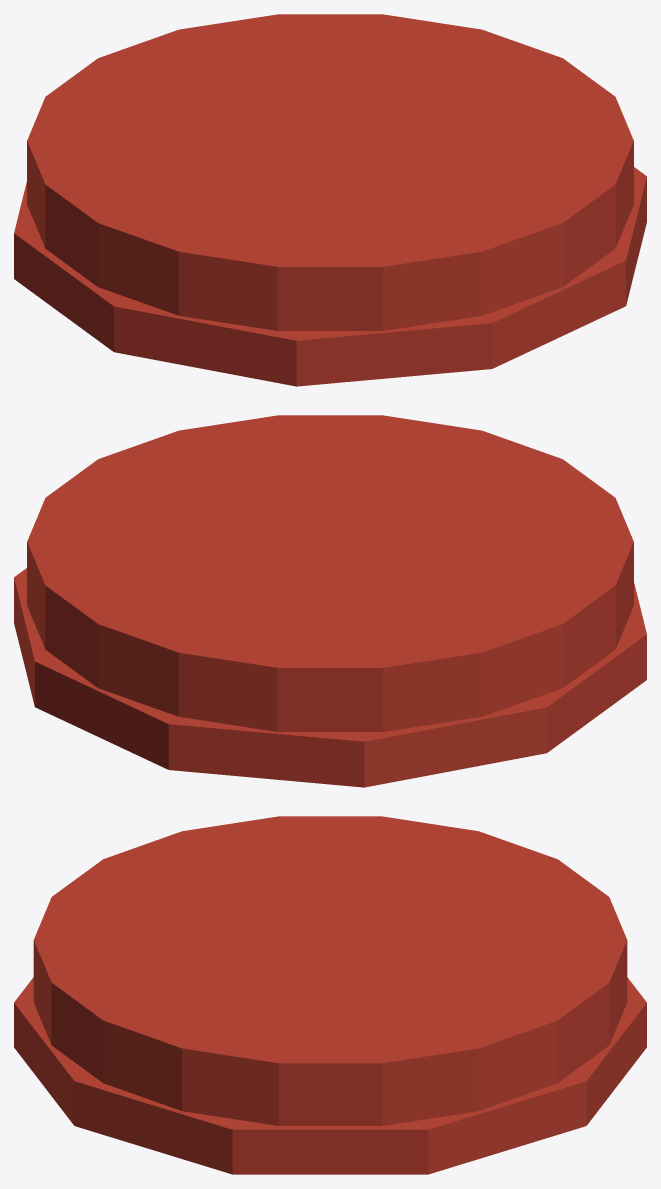
File: bottle_cap.fbx
The picture shows the model from 3 angles, top to bottom: view 1: azimuth 30°, elevation 25°; view 2: azimuth 150°, elevation 25°; view 3: azimuth 270°, elevation 25°; orthographic projection. The views are drawn at different scales.
Parts seen in each view (by area): view 1: bottle_cap; view 2: bottle_cap; view 3: bottle_cap.
Part boxes in pixels (bbox=[...]): bottle_cap: bbox=[14, 14, 646, 386]; bottle_cap: bbox=[14, 415, 646, 787]; bottle_cap: bbox=[14, 816, 646, 1174].
Size of the model in its own units: 0.0304 by 0.006 by 0.032.
